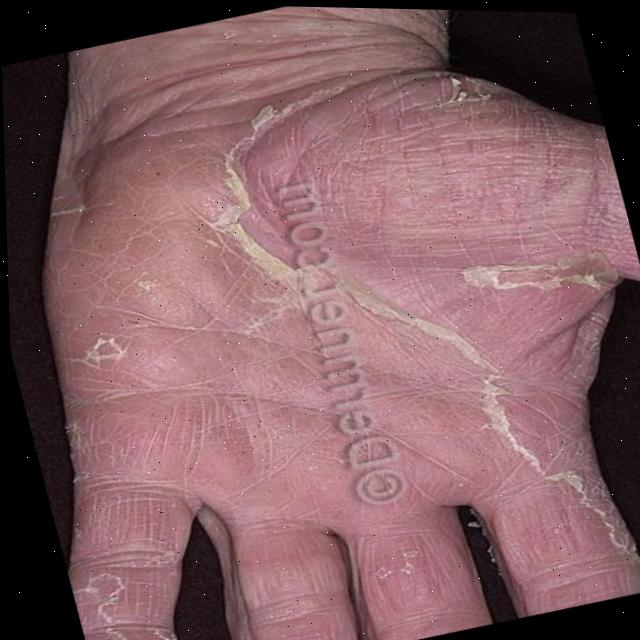Eczema: (1, 32, 640, 640)
